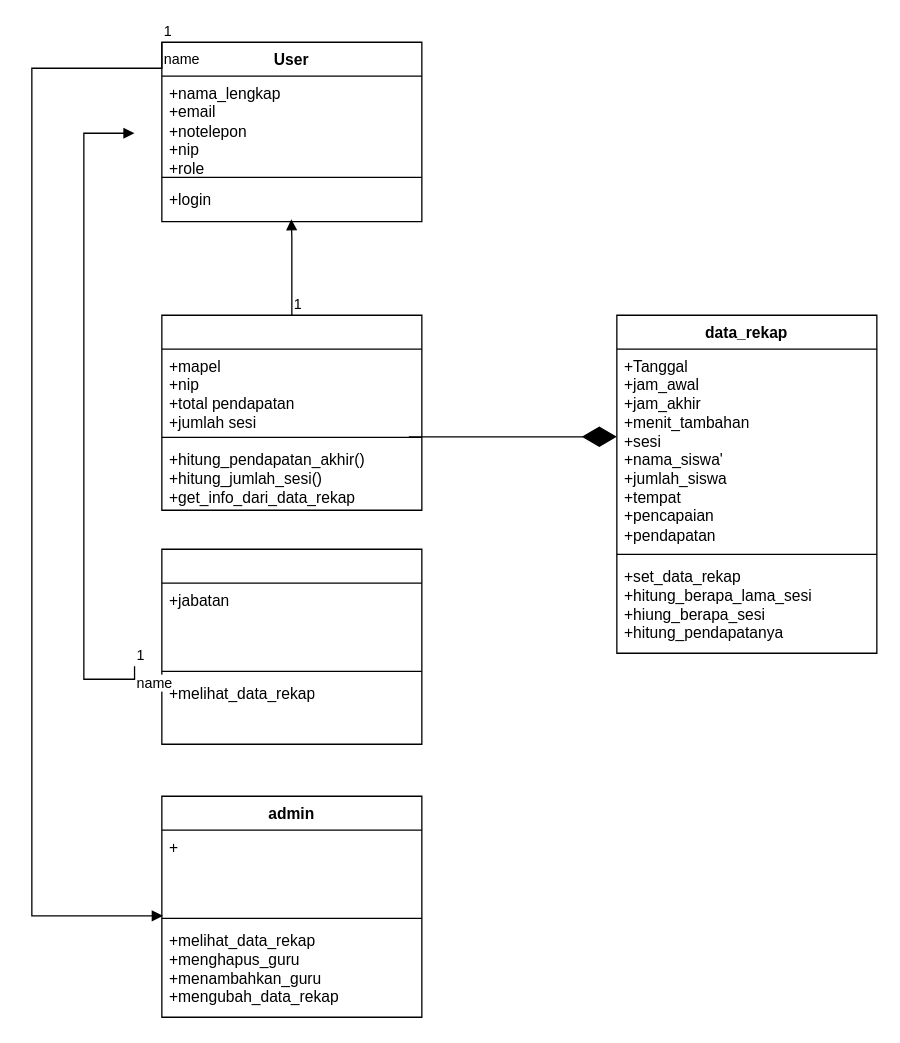
The diagram is 900 pixels wide and 1043 high, and some of its shapes have lost their labels. The box of each missing label's shape, as (x1, y1, x2, y2) in pixels:
Guru: (161, 314, 422, 510)
kepala_sekolah: (161, 548, 422, 744)
